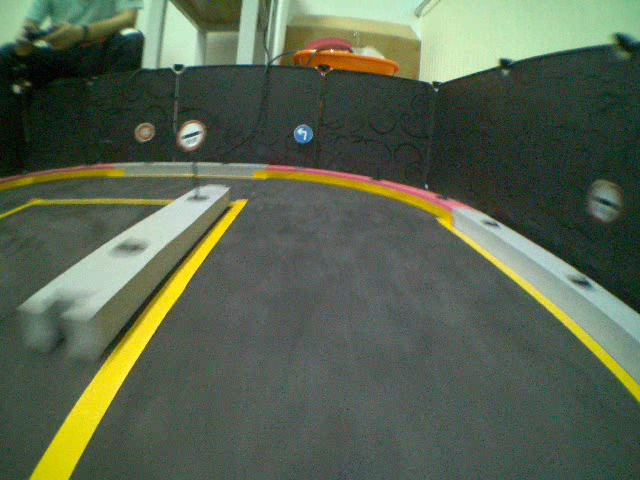Check: (584, 177, 626, 227), (176, 118, 206, 150)
Stop: (134, 120, 156, 144)
turn: (292, 123, 315, 148)
